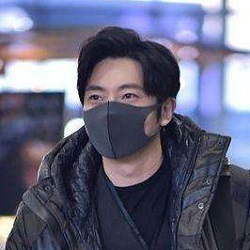mask: (84, 85, 156, 158)
